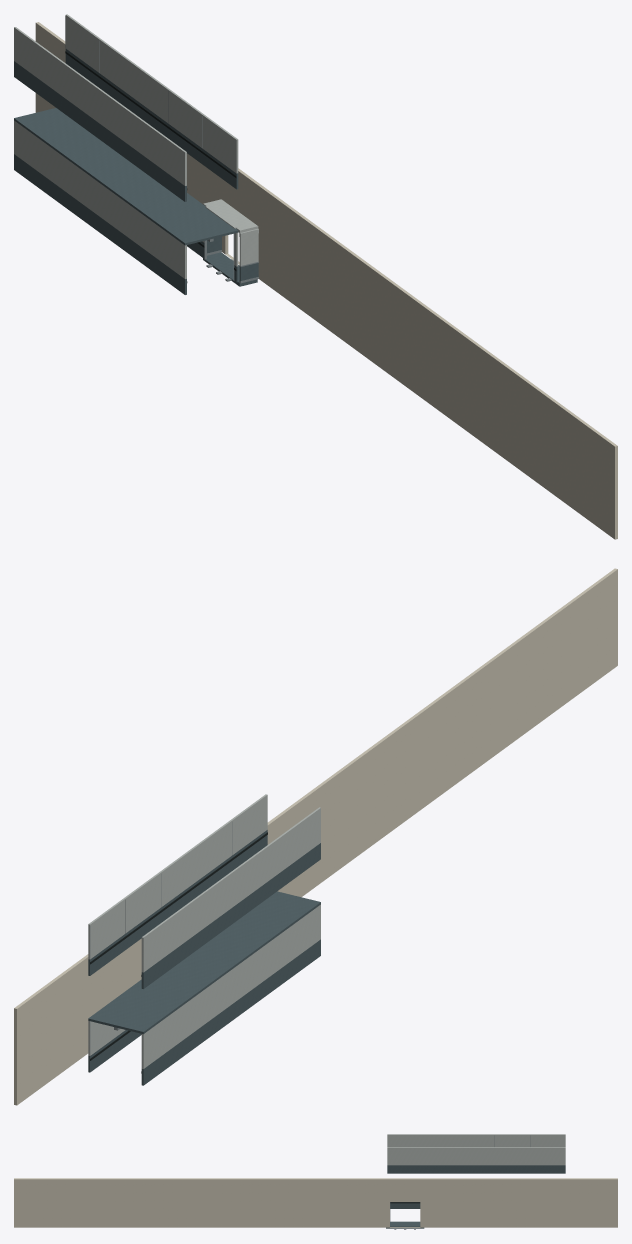
File: ARRIVALS_STAFF_RECEIVER_r002.glb
The picture shows the model from 3 angles, top to bottom: view 1: azimuth 30°, elevation 25°; view 2: azimuth 150°, elevation 25°; view 3: azimuth 270°, elevation 25°; orthographic projection. The views are drawn at different scales.
Visible parts, largest first — view 1: ARR_WestLowerOpaque_ARRIVALS_STAFF_GATEWAY, HOME_BATCH_173_ASTRAEA_staff_white_paint_ARRIVALS_STAFF_GATE, HOME_BATCH_006_ASTRAEA_staff_bluegrey_paint_ARRIVALS_STAFF_G, ORX_BATCH_001, ORX_BATCH_000; view 2: ARR_WestLowerOpaque_ARRIVALS_STAFF_GATEWAY, HOME_BATCH_173_ASTRAEA_staff_white_paint_ARRIVALS_STAFF_GATE, HOME_BATCH_006_ASTRAEA_staff_bluegrey_paint_ARRIVALS_STAFF_G; view 3: ARR_WestLowerOpaque_ARRIVALS_STAFF_GATEWAY, HOME_BATCH_173_ASTRAEA_staff_white_paint_ARRIVALS_STAFF_GATE, HOME_BATCH_006_ASTRAEA_staff_bluegrey_paint_ARRIVALS_STAFF_G, ORX_BATCH_000.
Boxes of the visible parts, box(x1,y1,x2,y2) form: ARR_WestLowerOpaque_ARRIVALS_STAFF_GATEWAY: box(35, 22, 617, 539); HOME_BATCH_173_ASTRAEA_staff_white_paint_ARRIVALS_STAFF_GATE: box(14, 14, 238, 278); HOME_BATCH_006_ASTRAEA_staff_bluegrey_paint_ARRIVALS_STAFF_G: box(14, 49, 238, 294); ORX_BATCH_001: box(203, 199, 258, 265); ORX_BATCH_000: box(203, 236, 258, 286); ARR_WestLowerOpaque_ARRIVALS_STAFF_GATEWAY: box(14, 568, 617, 1105); HOME_BATCH_173_ASTRAEA_staff_white_paint_ARRIVALS_STAFF_GATE: box(88, 794, 320, 1068); HOME_BATCH_006_ASTRAEA_staff_bluegrey_paint_ARRIVALS_STAFF_G: box(88, 830, 320, 1085); ARR_WestLowerOpaque_ARRIVALS_STAFF_GATEWAY: box(14, 1178, 617, 1227); HOME_BATCH_173_ASTRAEA_staff_white_paint_ARRIVALS_STAFF_GATE: box(387, 1134, 565, 1165); HOME_BATCH_006_ASTRAEA_staff_bluegrey_paint_ARRIVALS_STAFF_G: box(387, 1165, 565, 1222); ORX_BATCH_000: box(386, 1222, 424, 1228).
Size of the model in its own units: 5.1 by 9.44 by 67.7.
Materials: 8 (7 with a texture image).
